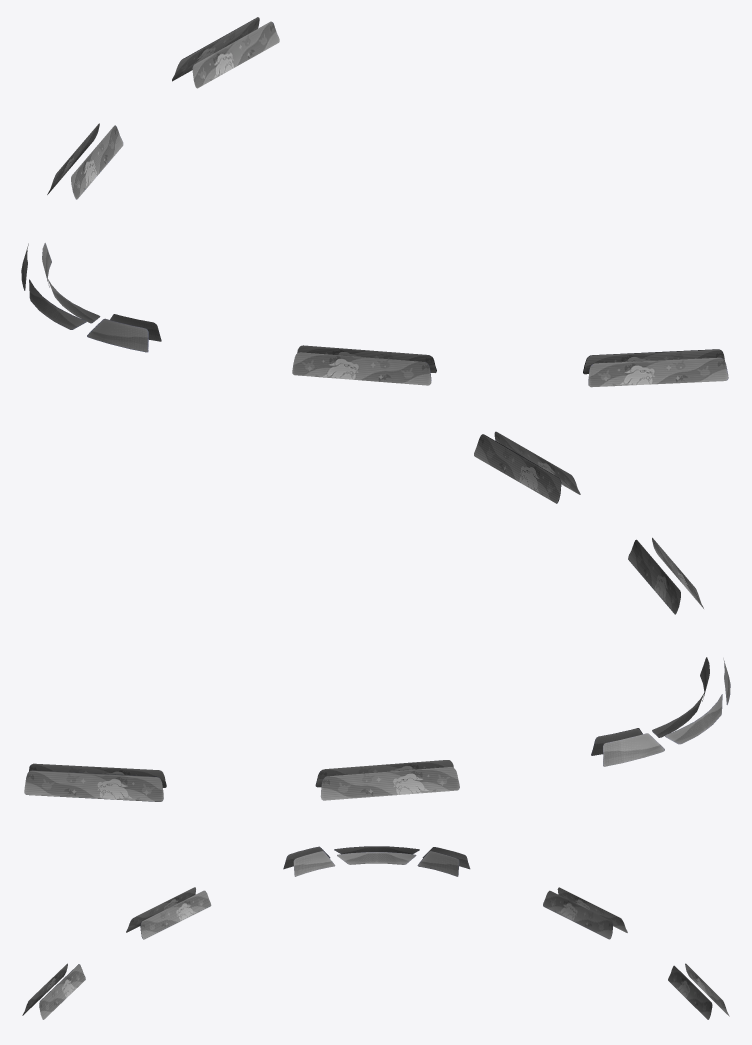
Rendered from pref_sm_4v4beachtech_WSJ_bk_centerblock_R01a_lv2.fbx.
The picture shows the model from 3 angles, top to bottom: view 1: azimuth 30°, elevation 25°; view 2: azimuth 150°, elevation 25°; view 3: azimuth 270°, elevation 25°; orthographic projection. The views are drawn at different scales.
Parts seen in each view (by area): view 1: pref_sm_4v4beachtech_WSJ_bk_centerblock_R01a_lv2; view 2: pref_sm_4v4beachtech_WSJ_bk_centerblock_R01a_lv2; view 3: pref_sm_4v4beachtech_WSJ_bk_centerblock_R01a_lv2.
Boxes of the visible parts, left/top/right/bottom form: pref_sm_4v4beachtech_WSJ_bk_centerblock_R01a_lv2: left=21, top=17, right=728, bottom=387; pref_sm_4v4beachtech_WSJ_bk_centerblock_R01a_lv2: left=24, top=431, right=730, bottom=801; pref_sm_4v4beachtech_WSJ_bk_centerblock_R01a_lv2: left=22, top=846, right=729, bottom=1019.
Size of the model in its own units: 22.18 by 1.64 by 38.94.
